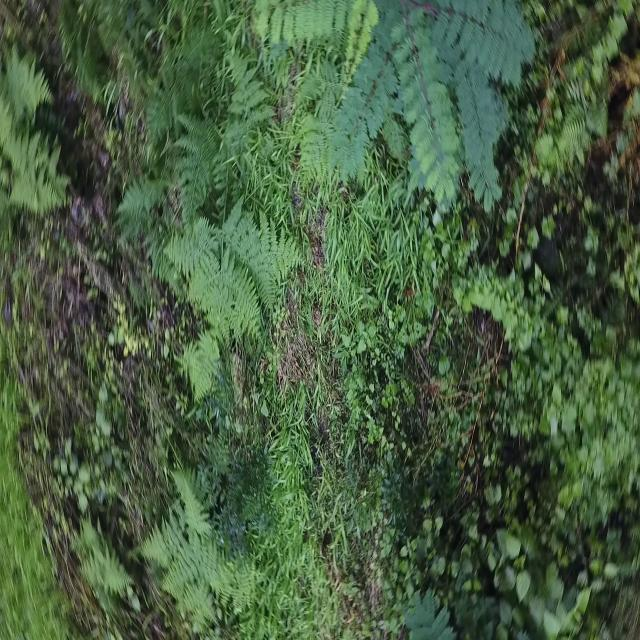Mysore-Thorn-Weed: (249, 0, 540, 218), (399, 585, 457, 640)
